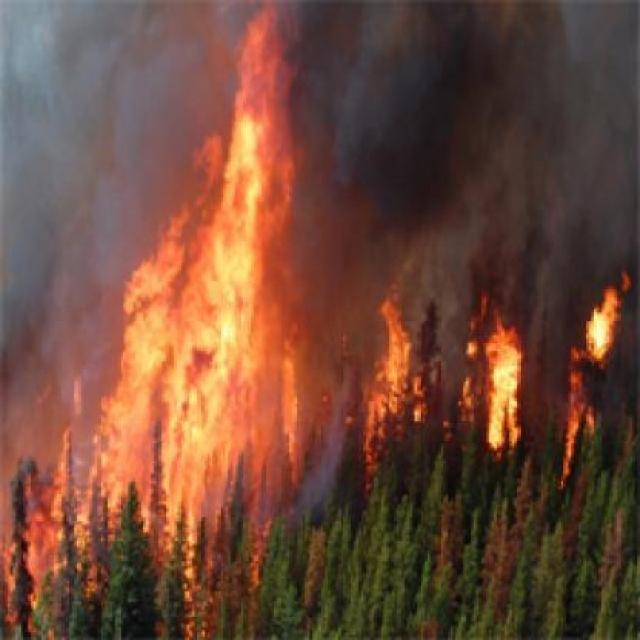Fire: (30, 12, 327, 628), (355, 258, 640, 503)
Smoke: (300, 0, 637, 290)
